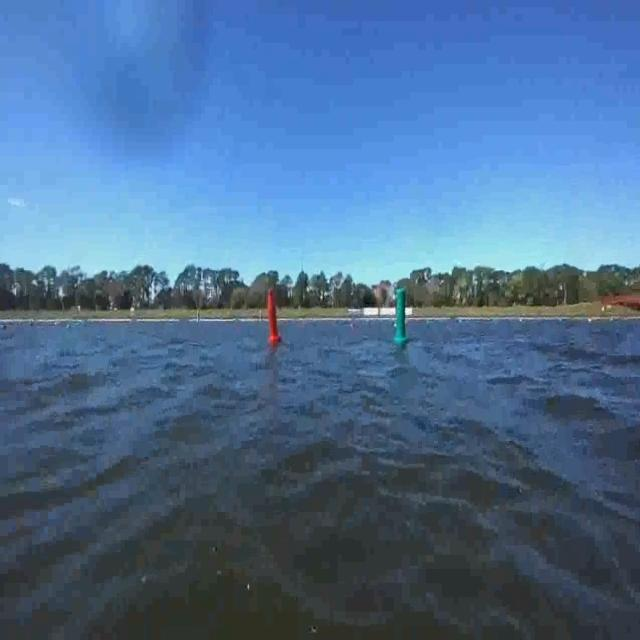green-column-buoy: (392, 288, 410, 345)
red-column-buoy: (266, 288, 283, 344)
